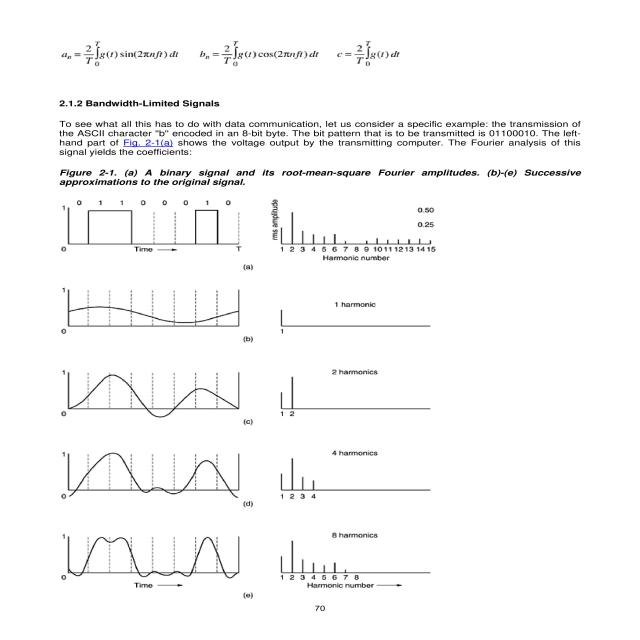diagram: (36, 164, 598, 594)
